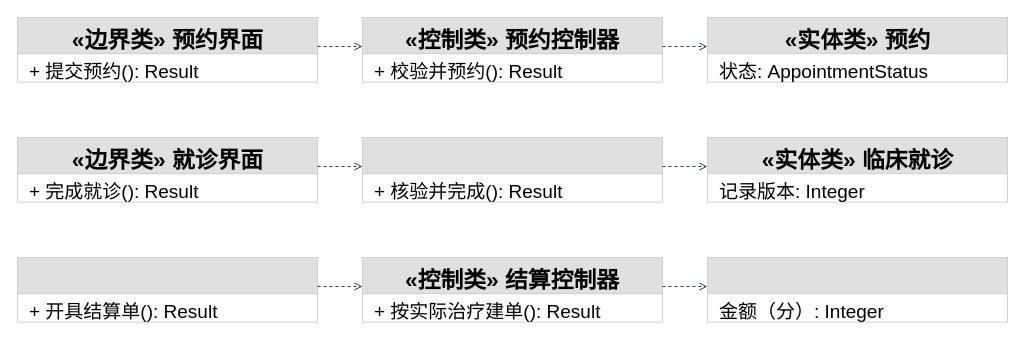
The diagram is 1025 pixels wide and 342 high, and some of its shapes have lost their labels. Each missing label, with the centre of its shape:
"«实体类» 诊疗结算单" belongs at [857,275].
"«控制类» 就诊控制器" belongs at [512,155].
"«边界类» 结算界面" belongs at [167,275].
